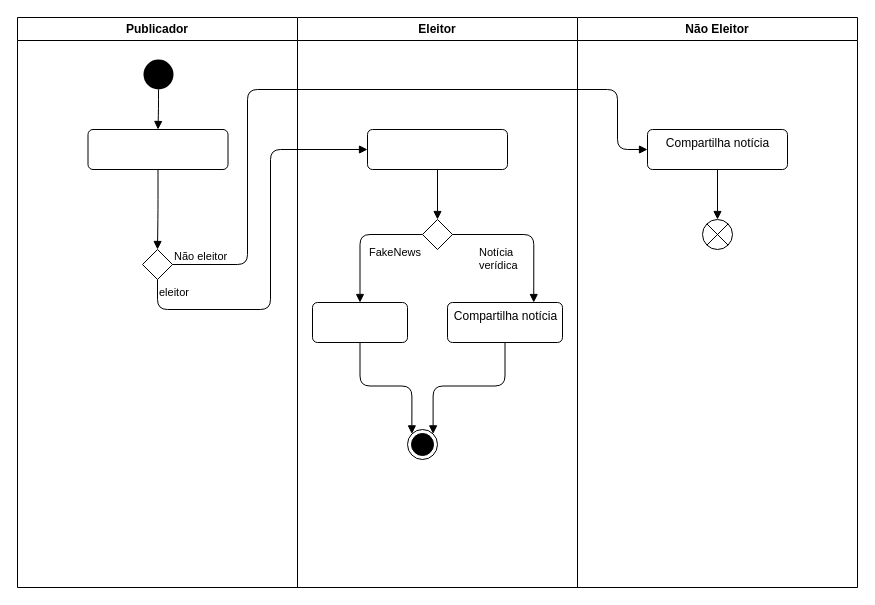
The diagram is 875 pixels wide and 605 high, and some of its shapes have lost their labels. The centre of each missing label's shape, as x and y in pixels:
Analisa notícia: the point at 437,149
Denuncia notícia: the point at 360,322
Encaminha notícia: the point at 157,149
